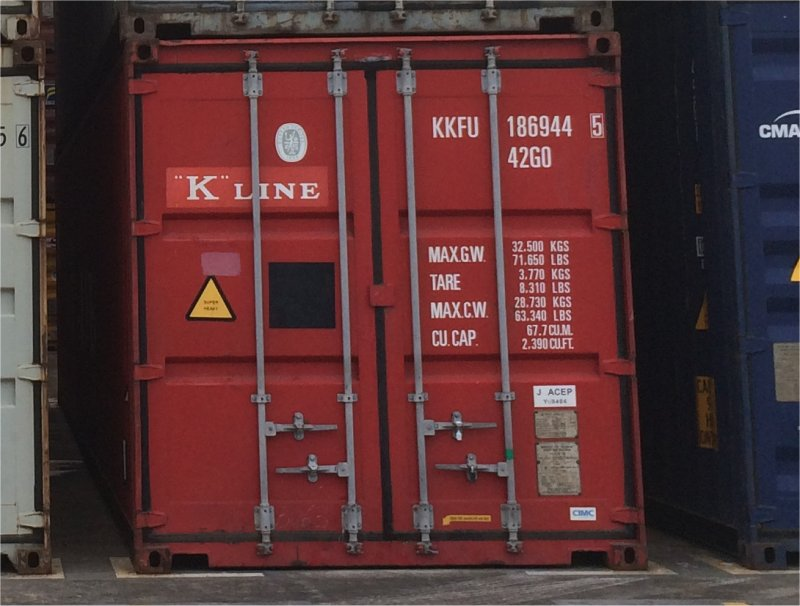container_door: (127, 35, 646, 577)
